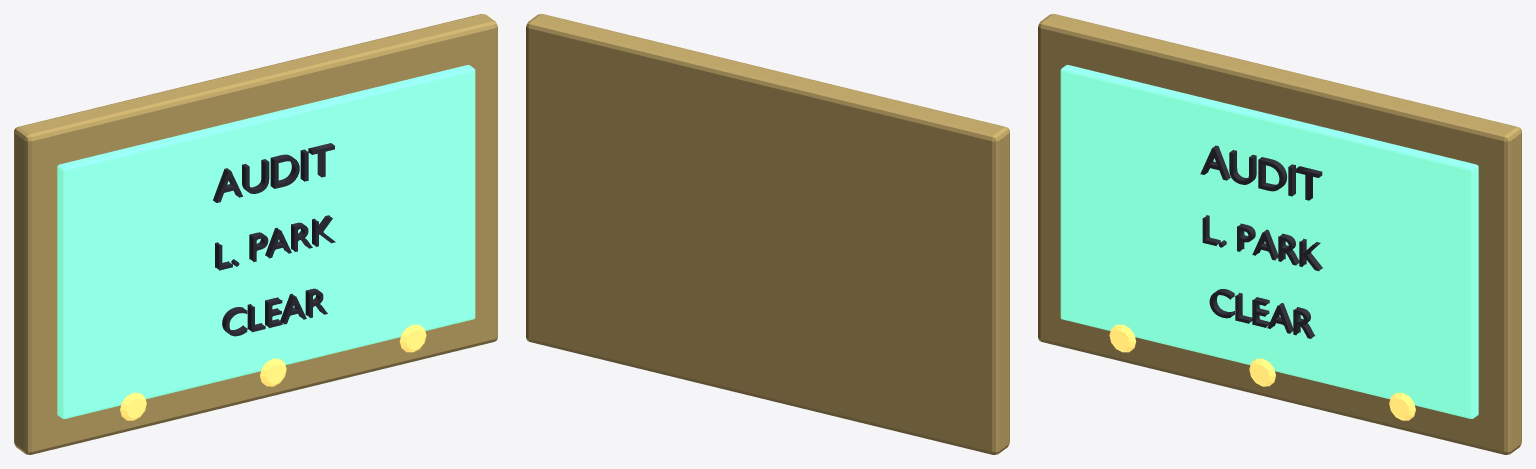
Rendered from vault-audit-panel.glb.
3 renders of one model, left to right at view 1: azimuth 30°, elevation 25°; view 2: azimuth 150°, elevation 25°; view 3: azimuth 330°, elevation 25°, orthographic.
Visible parts, largest first — view 1: vault audit smoked glass, vault audit brass frame, vault audit header, vault audit clear, vault audit l park, vault audit jewel lamp 2, vault audit jewel lamp 1, vault audit jewel lamp 0; view 2: vault audit brass frame; view 3: vault audit smoked glass, vault audit brass frame, vault audit header, vault audit l park, vault audit clear, vault audit jewel lamp 0, vault audit jewel lamp 1, vault audit jewel lamp 2.
Boxes of the visible parts, x1,y1,x2,y2 form: vault audit smoked glass: (57,65,475,418); vault audit brass frame: (14,14,497,454); vault audit header: (213,143,334,202); vault audit clear: (222,288,327,336); vault audit l park: (215,215,335,270); vault audit jewel lamp 2: (399,324,426,352); vault audit jewel lamp 1: (260,358,286,386); vault audit jewel lamp 0: (120,392,146,420); vault audit brass frame: (526,14,1009,454); vault audit smoked glass: (1060,65,1478,418); vault audit brass frame: (1038,14,1521,454); vault audit header: (1200,145,1322,200); vault audit l park: (1202,215,1322,270); vault audit clear: (1209,289,1314,338); vault audit jewel lamp 0: (1109,324,1136,352); vault audit jewel lamp 1: (1249,358,1275,386); vault audit jewel lamp 2: (1389,392,1415,420).
Size of the model in its own units: 1.42 by 0.92 by 0.145.
